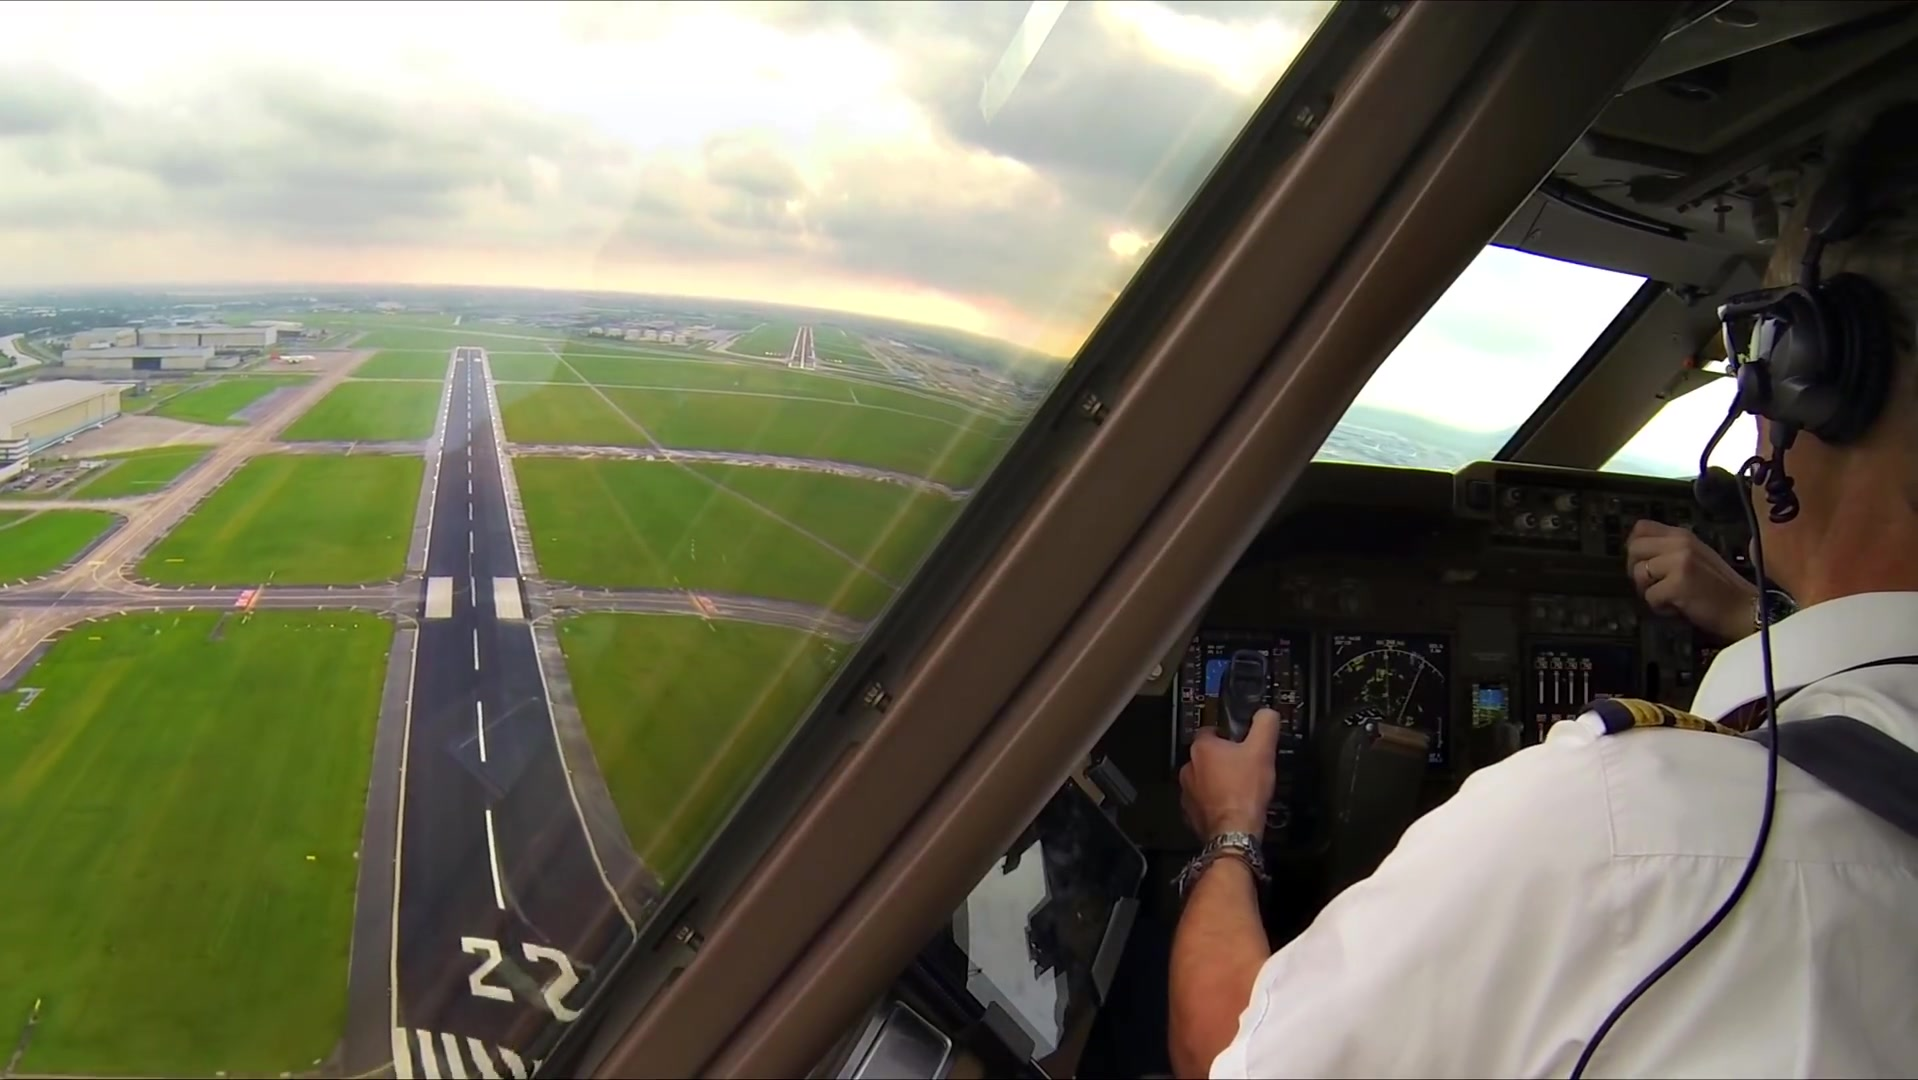entrance: (391, 1023, 545, 1080)
runway: (389, 338, 697, 1080), (782, 329, 819, 373)
